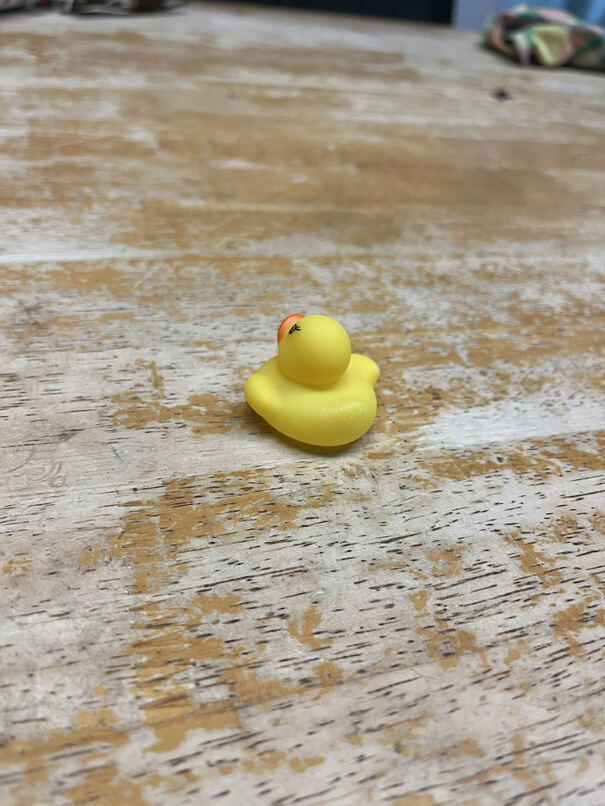duck_regular: (240, 310, 389, 451)
